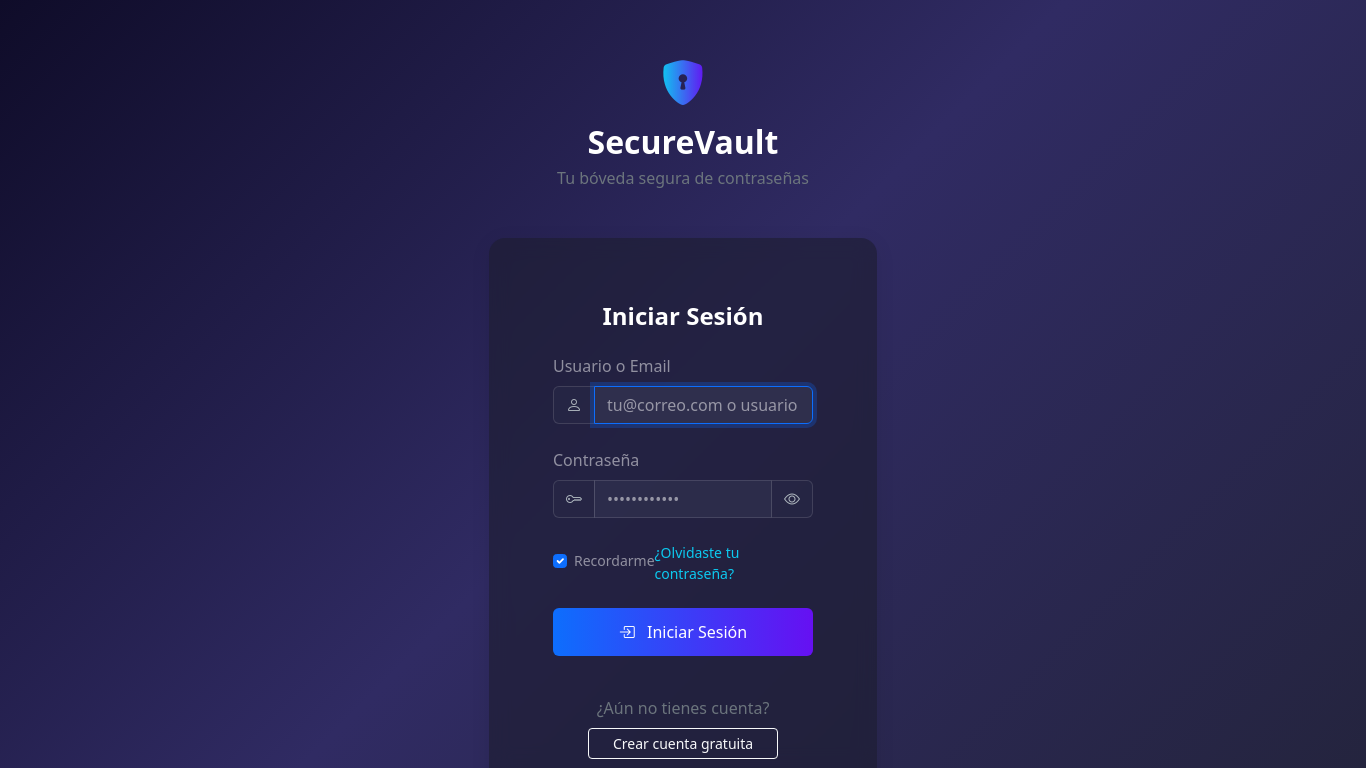
LoginPage › shows a success message after a successful registration
Type "alice" into the field with placeholder "tu@correo.com o usuario" at (704, 405), box [594, 386, 813, 424]
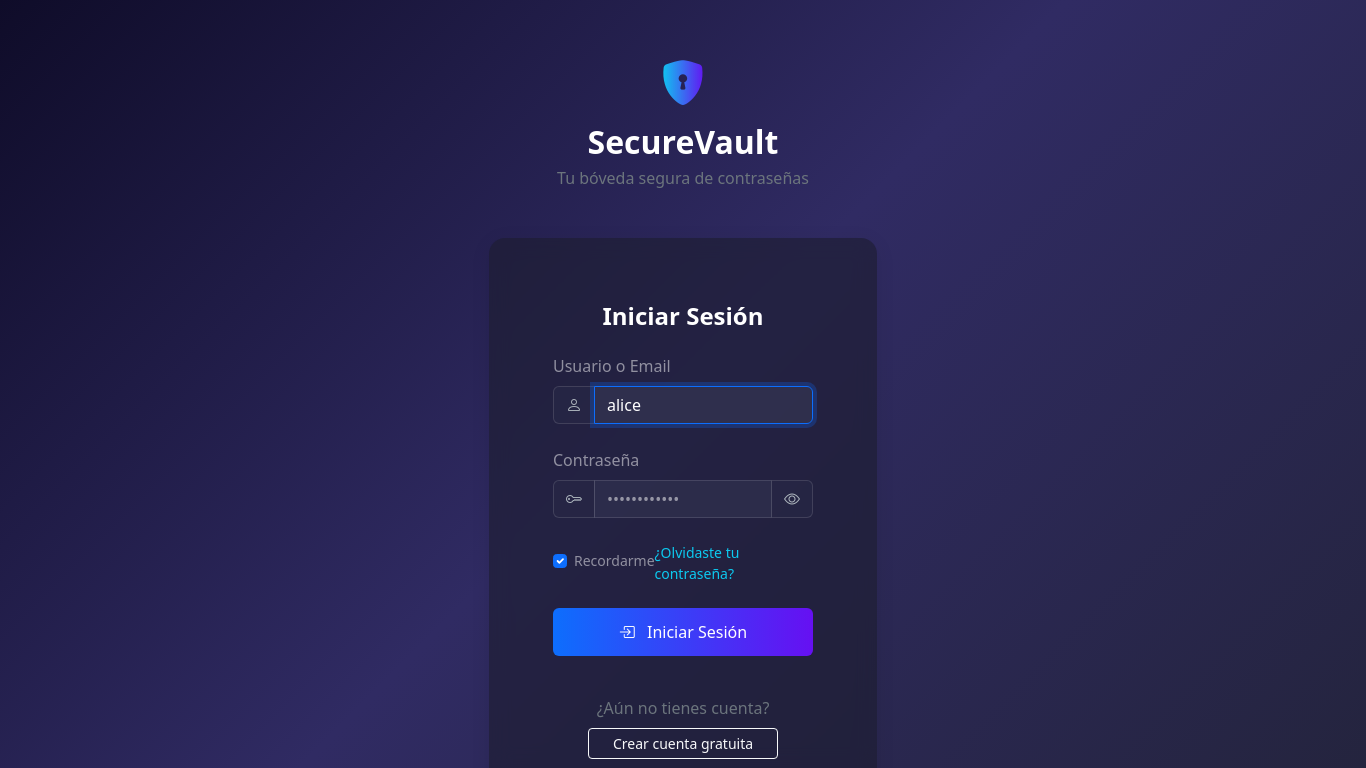
Type "super-secret" into the password field with placeholder "••••••••••••" at (683, 499), box [594, 480, 772, 518]
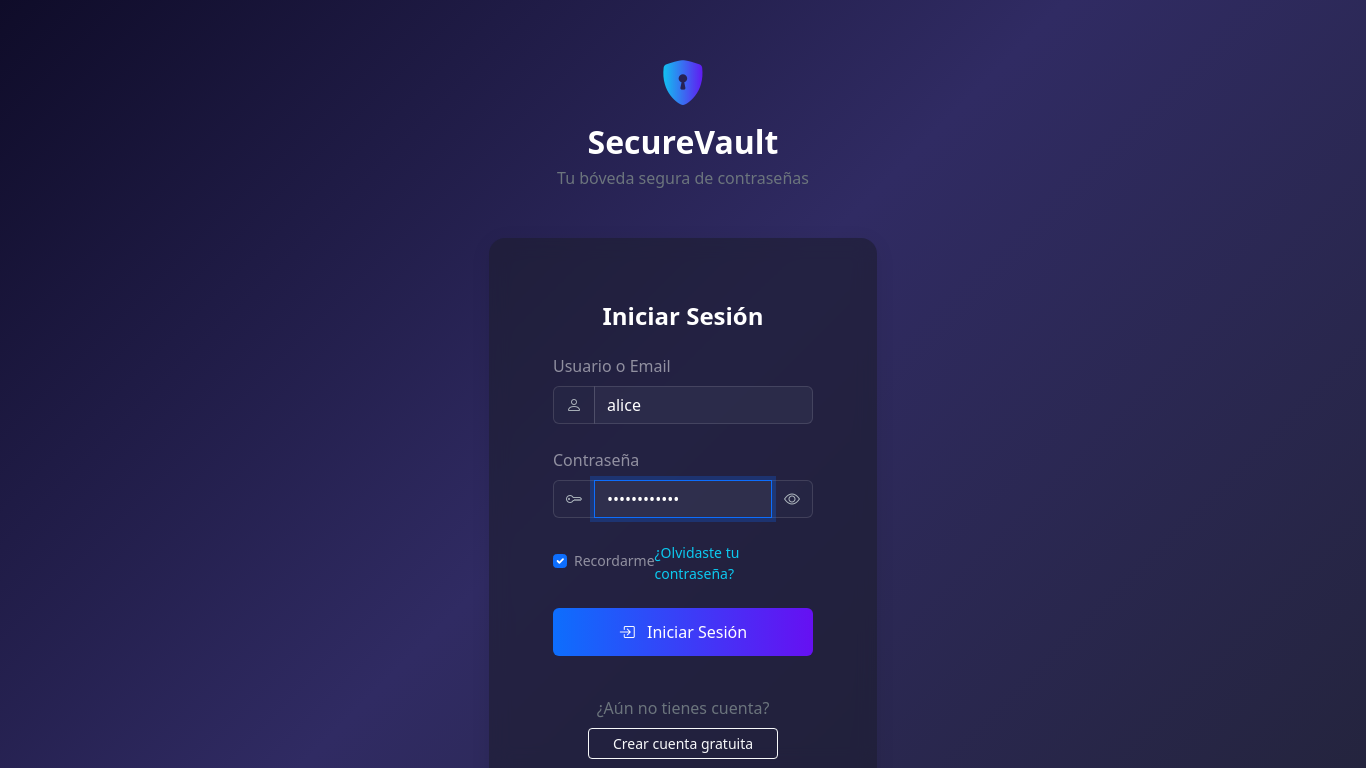
Click the button "Crear cuenta gratuita" at (683, 744), box [588, 728, 778, 759]
(page scrolled)
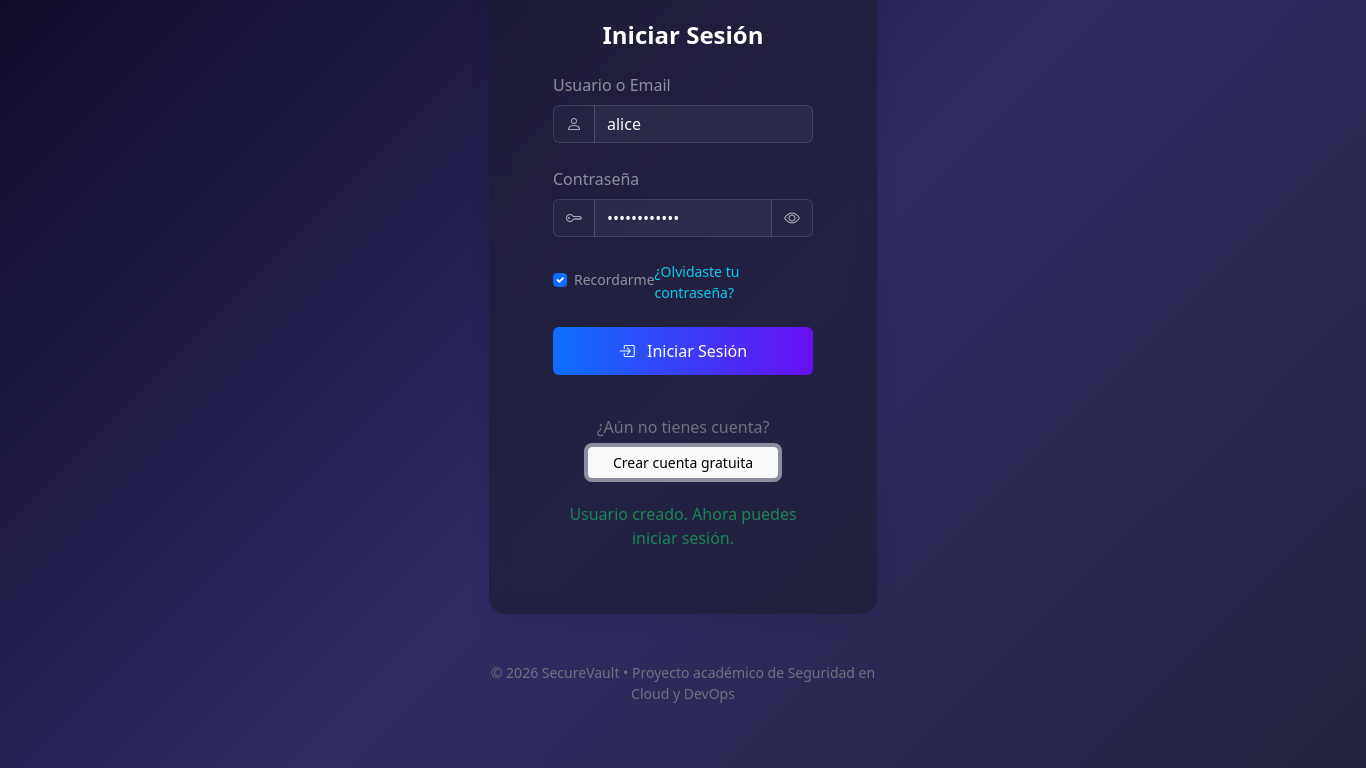
Expected: the text "Usuario creado. Ahora puedes iniciar sesión." is shown, [553, 502, 813, 550]
